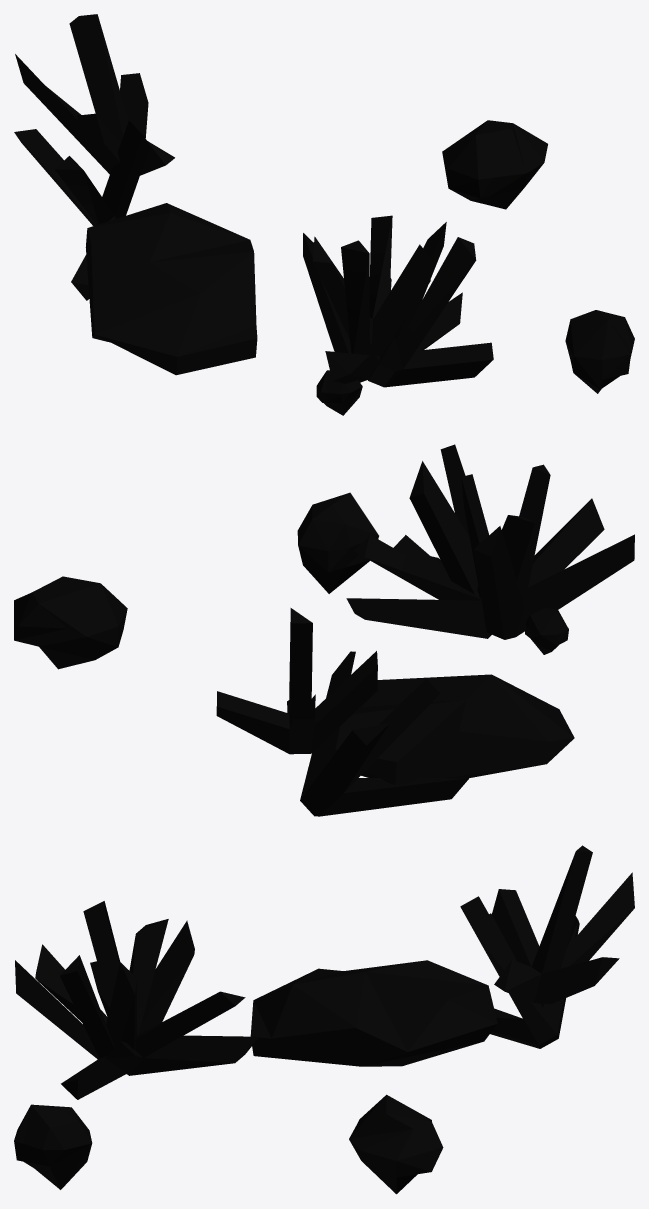
The model's file is plane_swamp_grass04.FBX.
The picture shows the model from 3 angles, top to bottom: view 1: azimuth 30°, elevation 25°; view 2: azimuth 150°, elevation 25°; view 3: azimuth 270°, elevation 25°; orthographic projection. The views are drawn at different scales.
Visible parts, largest first — view 1: Box003, Box013, Box010, Box004, Box007, Box016, Box015, Box005, Box009; view 2: Box003, Box013, Box016, Box015, Box010, Box004, Box007, Box005, Box009; view 3: Box003, Box010, Box015, Box004, Box013, Box007, Box005, Box016.
Part boxes in pixels (x1,y1,x2,y2): Box003: (85, 203, 257, 375); Box013: (303, 233, 430, 383); Box010: (15, 14, 174, 175); Box004: (367, 222, 493, 387); Box007: (442, 120, 547, 209); Box016: (14, 121, 150, 300); Box015: (312, 215, 462, 372); Box005: (565, 310, 634, 393); Box009: (316, 370, 362, 415); Box003: (311, 674, 574, 784); Box013: (461, 464, 634, 639); Box016: (300, 651, 468, 816); Box015: (346, 515, 534, 638); Box010: (216, 608, 377, 754); Box004: (409, 444, 604, 597); Box007: (14, 576, 127, 669); Box005: (297, 492, 378, 593); Box009: (525, 608, 568, 654); Box003: (250, 960, 497, 1066); Box010: (492, 845, 634, 1004); Box015: (105, 919, 259, 1075); Box004: (15, 955, 137, 1099); Box013: (35, 901, 194, 1035); Box007: (349, 1094, 443, 1194); Box005: (14, 1104, 92, 1189); Box016: (460, 896, 579, 1048).
Size of the model in its own units: 31.58 by 14.68 by 35.83.
1 material, 1 textured.
